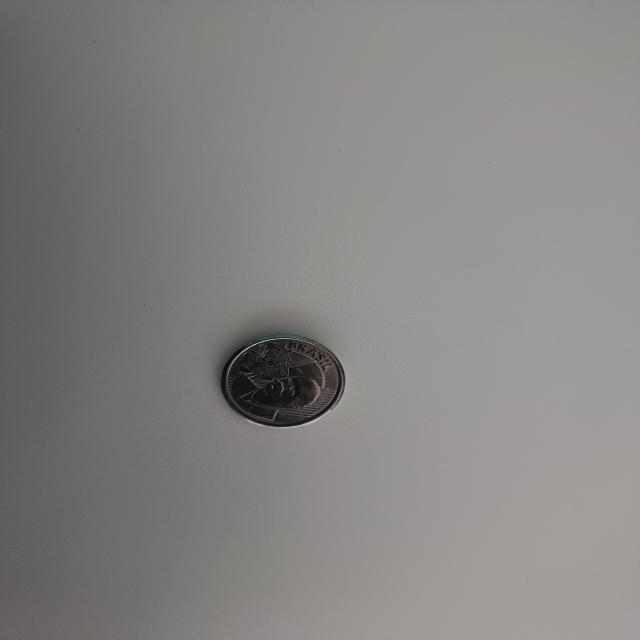50 cents: (222, 330, 349, 431)
